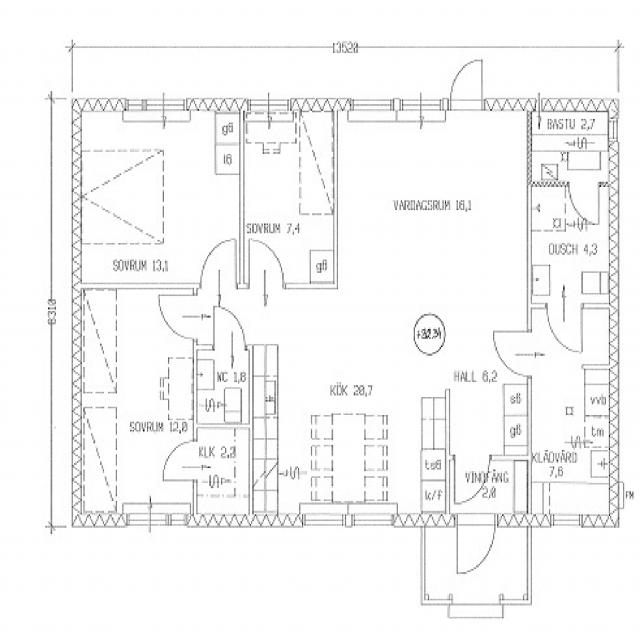door: (456, 514, 494, 575), (454, 455, 490, 505), (547, 303, 582, 354), (492, 332, 532, 376), (158, 295, 197, 340), (450, 58, 482, 111), (202, 239, 236, 288), (248, 240, 282, 288), (214, 304, 245, 350), (162, 442, 197, 481), (568, 182, 598, 226)
